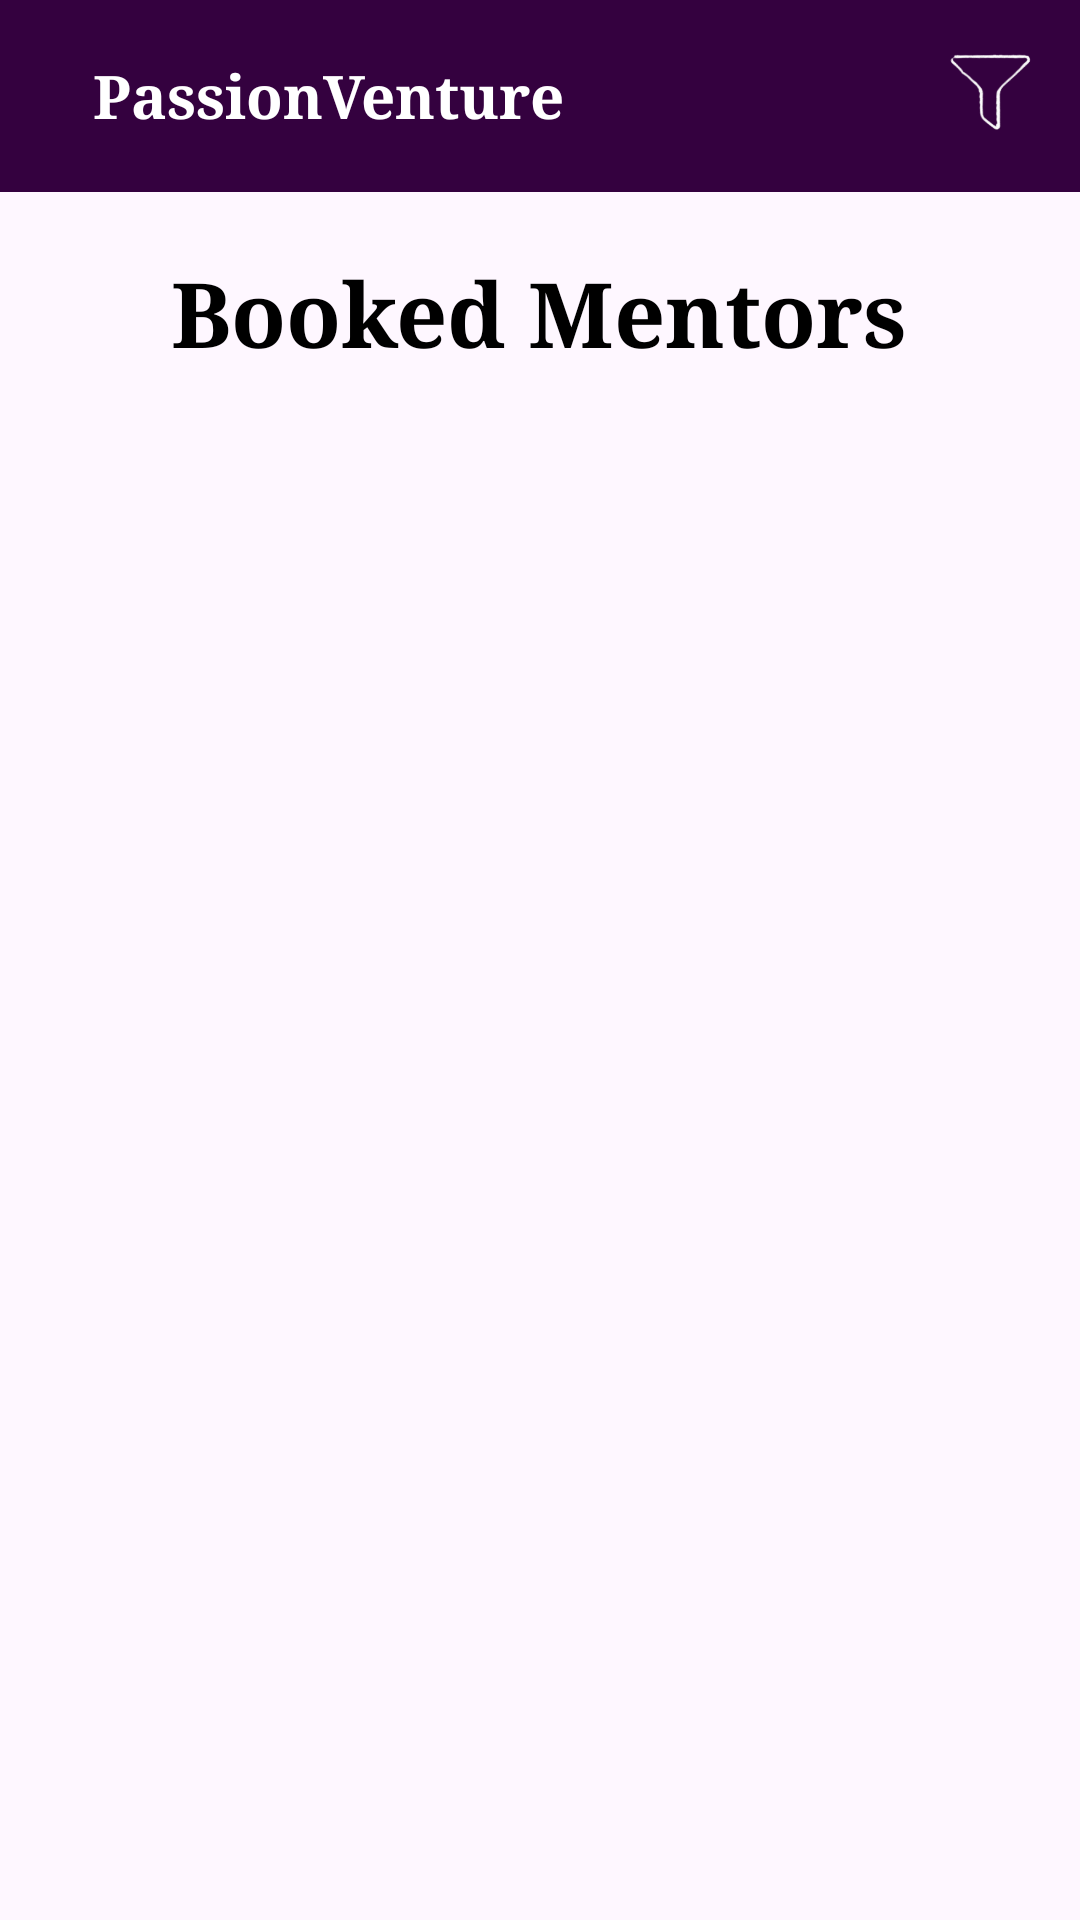

Icon bounding boxes for this 1080px x 1920px phone screenshot, format (x1, y1, x2, y2):
filter: (950, 54, 1030, 130)
